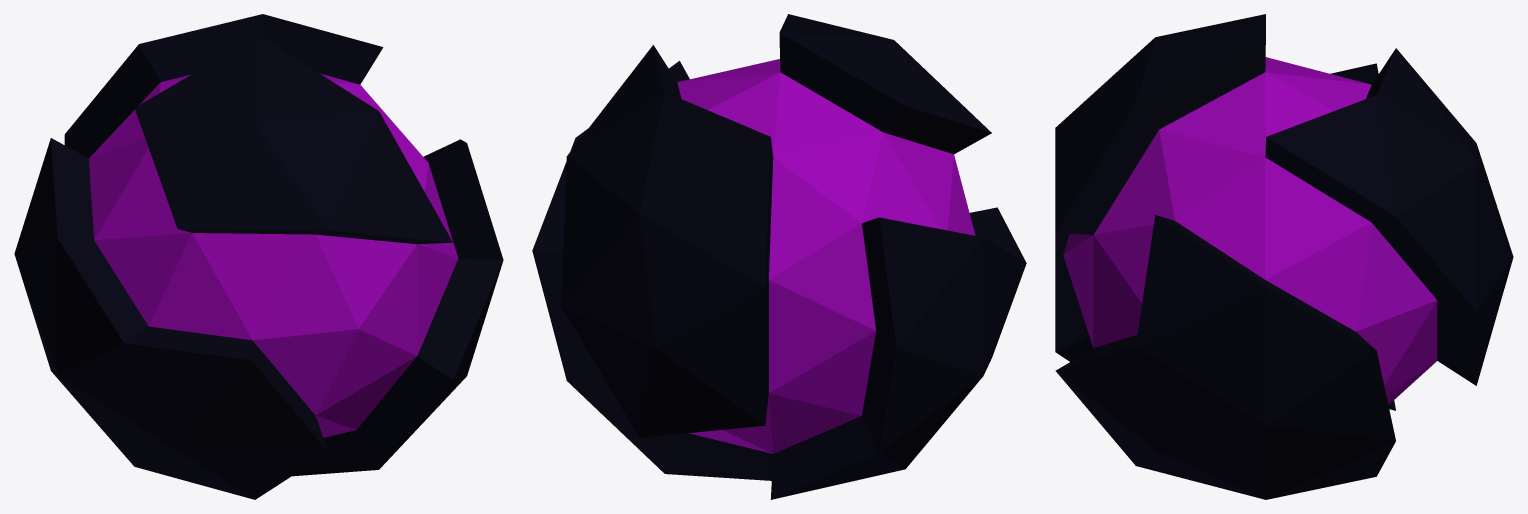
Rendered from SM_MeteoritePiece_high.fbx.
3 views of the same model, side by side, from view 1: azimuth 30°, elevation 25°; view 2: azimuth 150°, elevation 25°; view 3: azimuth 270°, elevation 25° (orthographic).
Visible parts, largest first — view 1: MeteoritePiece; view 2: MeteoritePiece; view 3: MeteoritePiece.
Boxes of the visible parts, box(x1,y1,x2,y2) form: MeteoritePiece: box(14, 14, 503, 499); MeteoritePiece: box(532, 14, 1026, 499); MeteoritePiece: box(1055, 14, 1513, 499).
Bounding box in the file's own units: 4.83 × 5.08 × 4.7.
